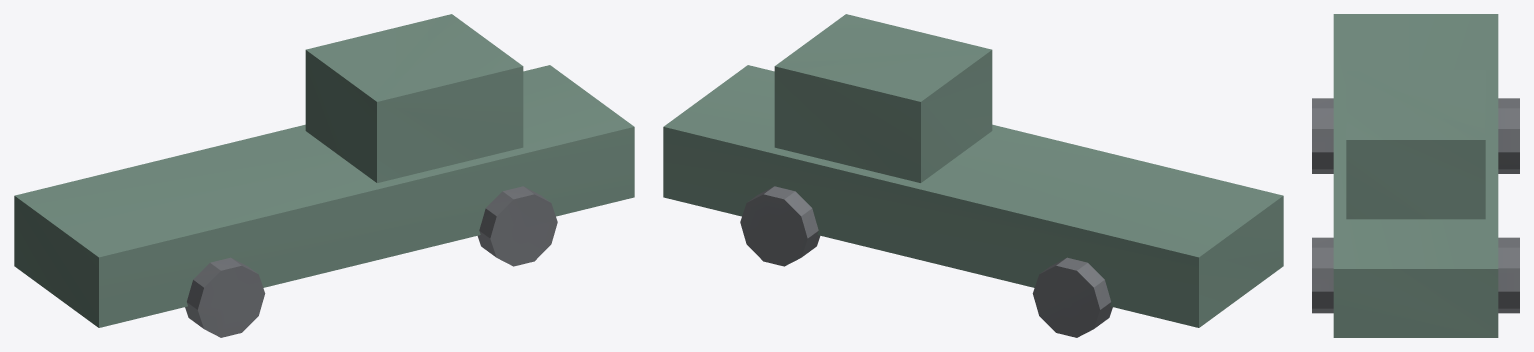
File: train-07.glb
3 renders of one model, left to right at view 1: azimuth 30°, elevation 25°; view 2: azimuth 150°, elevation 25°; view 3: azimuth 270°, elevation 25°, orthographic. The views are drawn at different scales.
Parts seen in each view (by area): view 1: world; view 2: world; view 3: world.
Part boxes in pixels (box(x1,y1,x2,y2)): world: box(14, 14, 634, 337); world: box(663, 14, 1283, 337); world: box(1312, 14, 1519, 337).
Size of the model in its own units: 2.38 by 0.7677 by 0.82.
